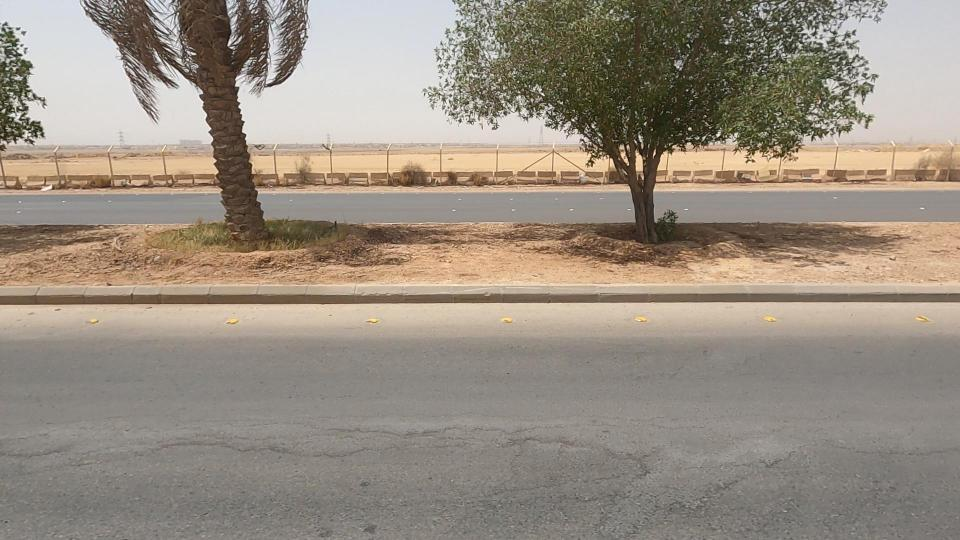CLUTTER_SIDEWALK: (203, 193, 840, 304), (638, 202, 959, 317), (0, 190, 291, 314)
